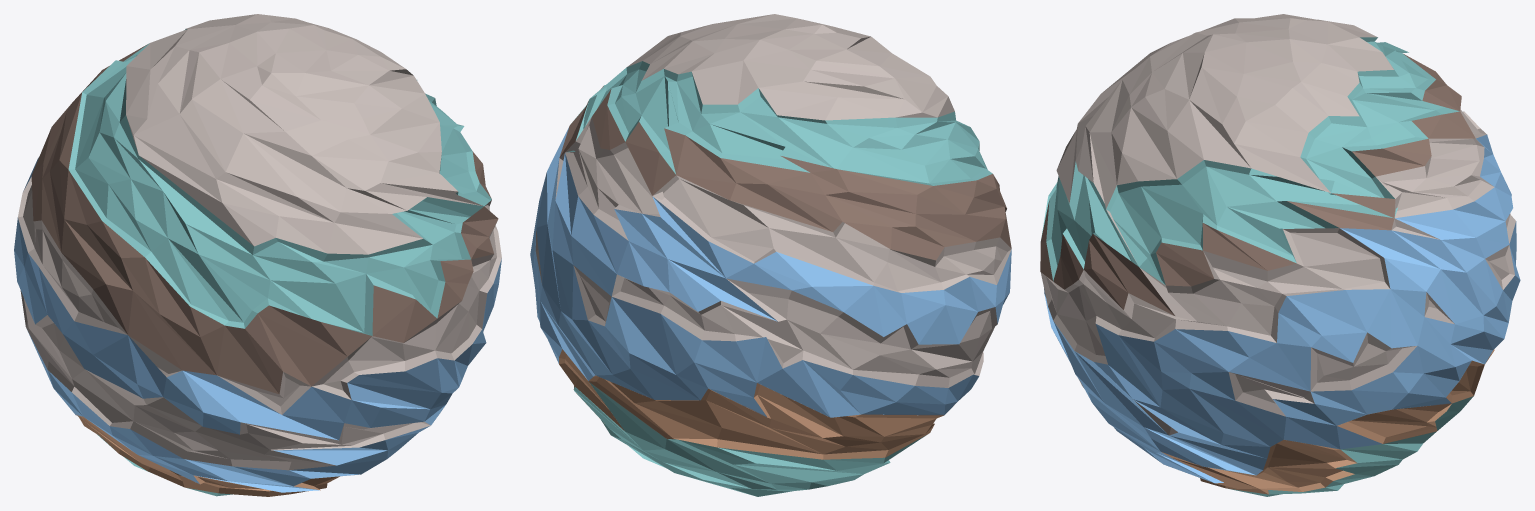
The model's file is Jupiter.glb.
3 renders of one model, left to right at view 1: azimuth 30°, elevation 25°; view 2: azimuth 150°, elevation 25°; view 3: azimuth 270°, elevation 25°, orthographic.
Parts seen in each view (by area): view 1: Jupiter; view 2: Jupiter; view 3: Jupiter.
Boxes of the visible parts, left/top/right/bottom form: Jupiter: left=14, top=14, right=501, bottom=496; Jupiter: left=530, top=14, right=1011, bottom=496; Jupiter: left=1040, top=14, right=1520, bottom=496.
Bounding box in the file's own units: 100 × 100 × 100.
1 material, 1 textured.
